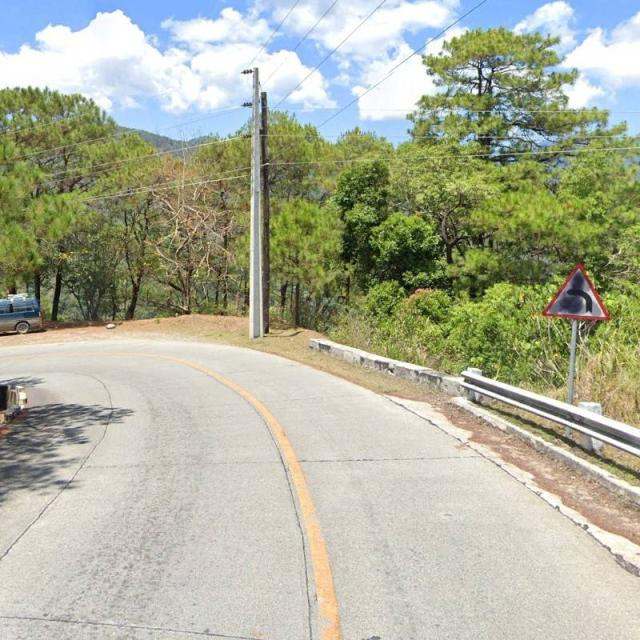warn_left_curve: (542, 263, 611, 322)
